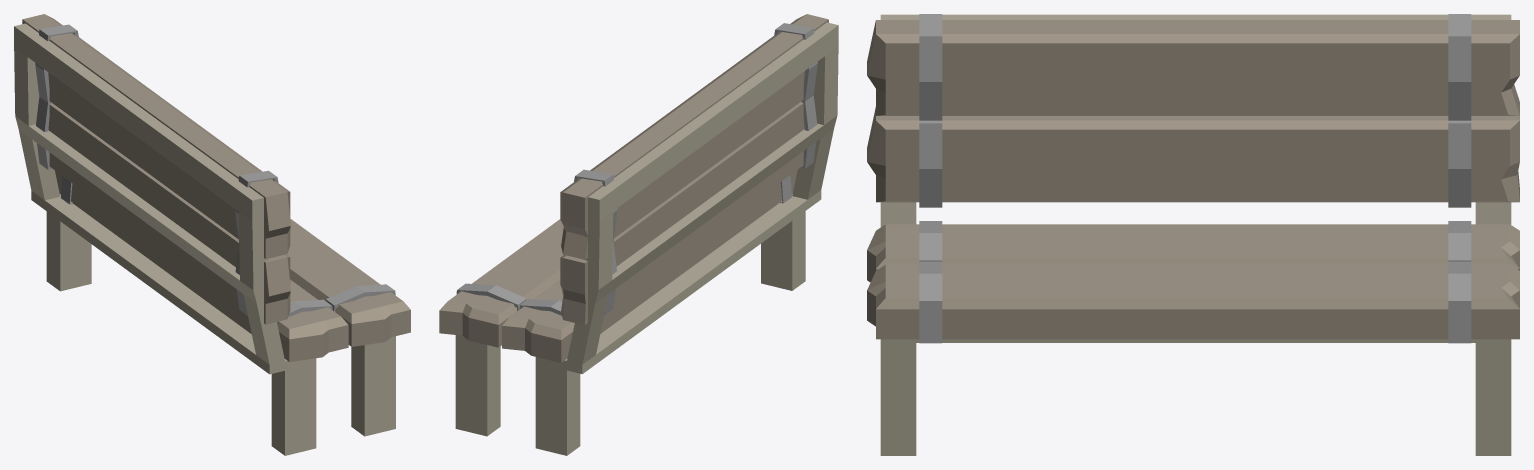
Rendered from bankje.fbx.
3 renders of one model, left to right at view 1: azimuth 30°, elevation 25°; view 2: azimuth 150°, elevation 25°; view 3: azimuth 270°, elevation 25°, orthographic. The views are drawn at different scales.
Parts seen in each view (by area): view 1: Bench; view 2: Bench; view 3: Bench.
Boxes of the visible parts, x1,y1,x2,y2 form: Bench: [14, 14, 410, 455]; Bench: [439, 14, 838, 455]; Bench: [867, 14, 1519, 455].
Size of the model in its own units: 0.8558 by 1.37 by 2.29.
